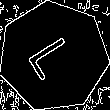L_NE: (24, 30, 83, 83)
